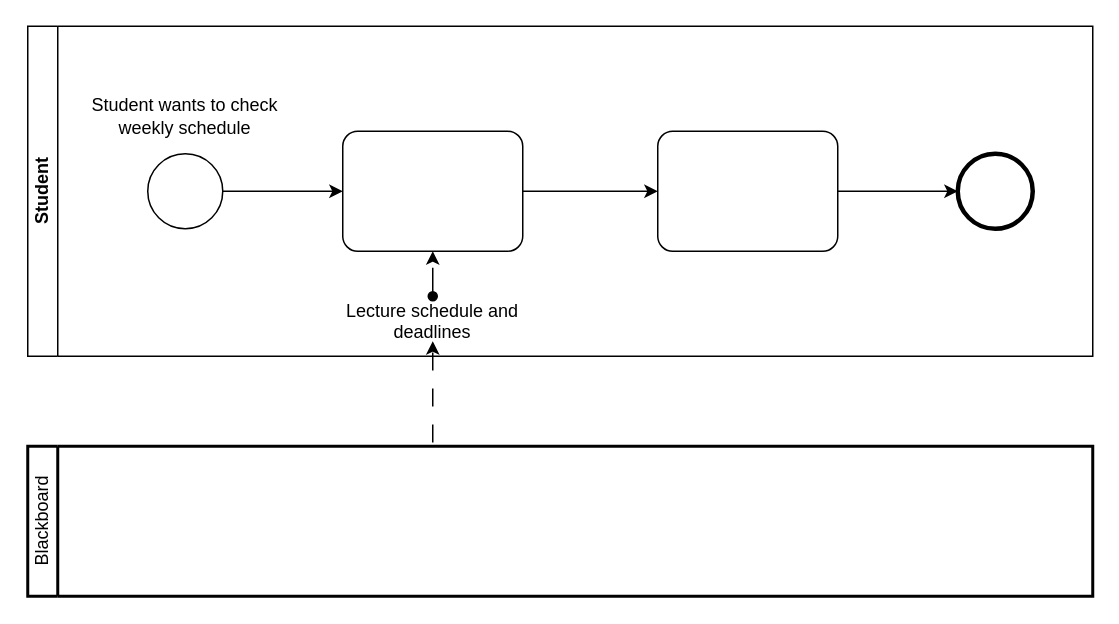
Image size: 1119x624. Some labels were removed from this diagram. The centre of each missing label's shape, as x and y in pixels:
"Go to blackboard calendar" goes at point 432,190.
"Plan week" goes at point 747,190.
